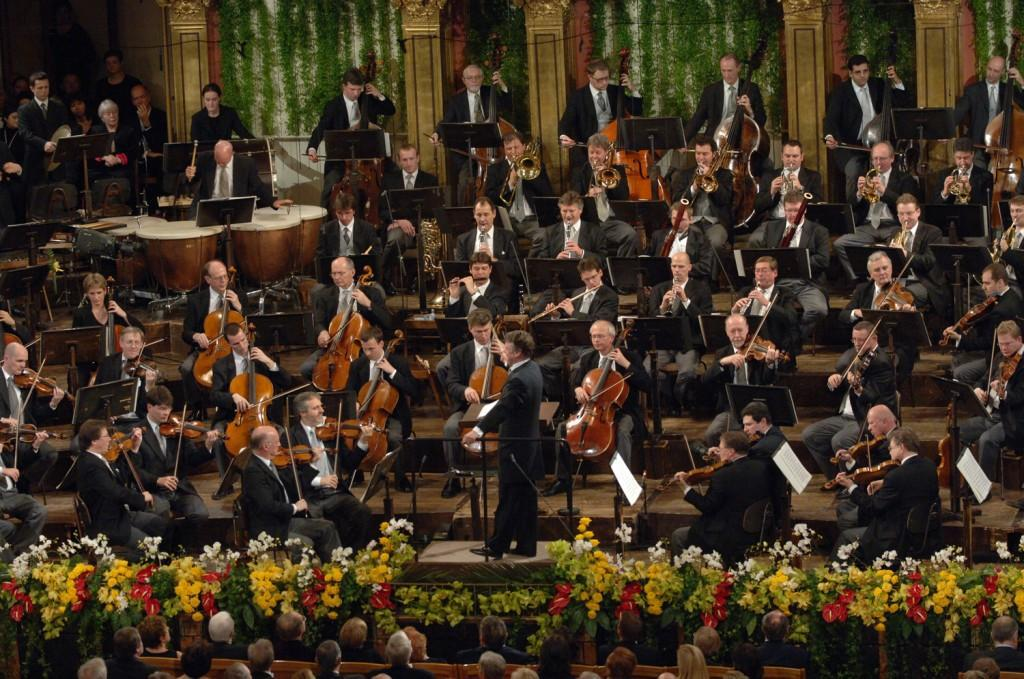face: (227, 329, 248, 354), (475, 203, 493, 232), (872, 258, 892, 283), (728, 322, 748, 347), (898, 205, 918, 229), (306, 399, 325, 423), (10, 352, 29, 376), (999, 332, 1017, 357), (785, 203, 804, 225), (505, 140, 524, 162), (332, 265, 351, 287), (363, 338, 382, 360), (209, 269, 228, 291), (873, 150, 891, 173), (784, 148, 802, 171), (473, 322, 491, 345), (123, 334, 141, 357), (853, 331, 870, 355), (743, 416, 760, 440), (672, 210, 689, 234), (695, 146, 712, 170), (95, 428, 111, 453), (756, 264, 774, 286), (132, 87, 150, 109), (589, 146, 606, 169), (466, 69, 483, 92), (400, 150, 417, 173), (592, 329, 610, 350), (671, 259, 688, 281), (721, 60, 737, 83), (982, 272, 996, 298), (561, 205, 579, 225), (868, 416, 884, 438), (582, 270, 600, 289), (472, 265, 490, 284), (154, 404, 171, 424), (852, 66, 869, 85), (593, 71, 610, 90), (266, 432, 279, 456), (955, 152, 972, 169), (987, 64, 1003, 82), (890, 440, 903, 461), (337, 208, 353, 225), (347, 83, 362, 101), (65, 76, 80, 94), (35, 81, 49, 100), (89, 288, 104, 305), (205, 93, 219, 111), (1011, 206, 1024, 225), (505, 344, 518, 363), (106, 57, 121, 73), (56, 9, 70, 26), (71, 101, 86, 116), (15, 81, 29, 97), (104, 110, 118, 125), (20, 99, 33, 115), (719, 442, 729, 462), (80, 119, 92, 133), (164, 624, 172, 642), (217, 160, 230, 170), (13, 113, 21, 129)
